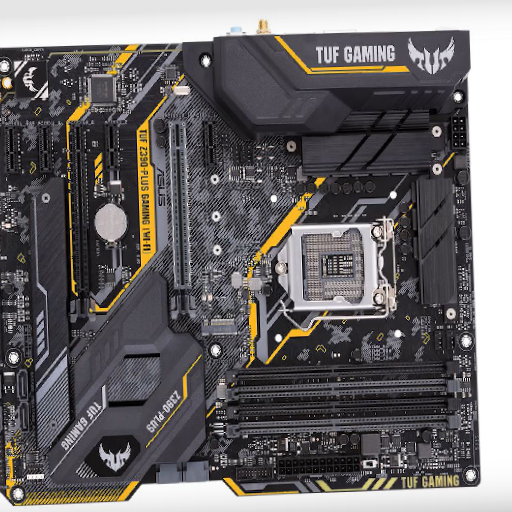CPU: (275, 219, 396, 311)
GPU: (67, 121, 96, 321), (169, 120, 196, 318)
MOTHERBOARD: (1, 45, 470, 489)
RAM: (225, 360, 462, 438)
SSD: (199, 317, 242, 335)
